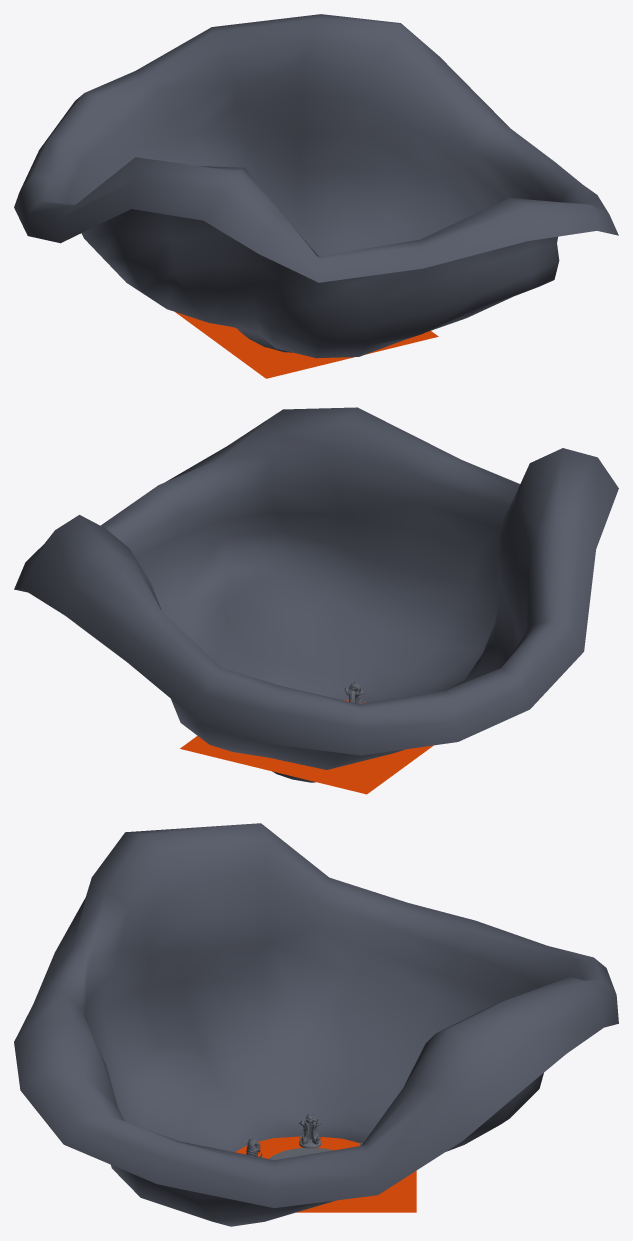
The model's file is Arena_lava.fbx.
The picture shows the model from 3 angles, top to bottom: view 1: azimuth 30°, elevation 25°; view 2: azimuth 150°, elevation 25°; view 3: azimuth 270°, elevation 25°; orthographic projection. The views are drawn at different scales.
Visible parts, largest first — view 1: Arena_Wall, magma; view 2: Arena_Wall, magma; view 3: Arena_Wall, magma.
Part boxes in pixels (bbox=[...]): Arena_Wall: bbox=[14, 14, 618, 358]; magma: bbox=[175, 312, 438, 378]; Arena_Wall: bbox=[14, 407, 618, 782]; magma: bbox=[180, 700, 433, 794]; Arena_Wall: bbox=[14, 823, 618, 1226]; magma: bbox=[236, 1136, 416, 1212].
Size of the model in its own units: 444 by 224 by 442.
